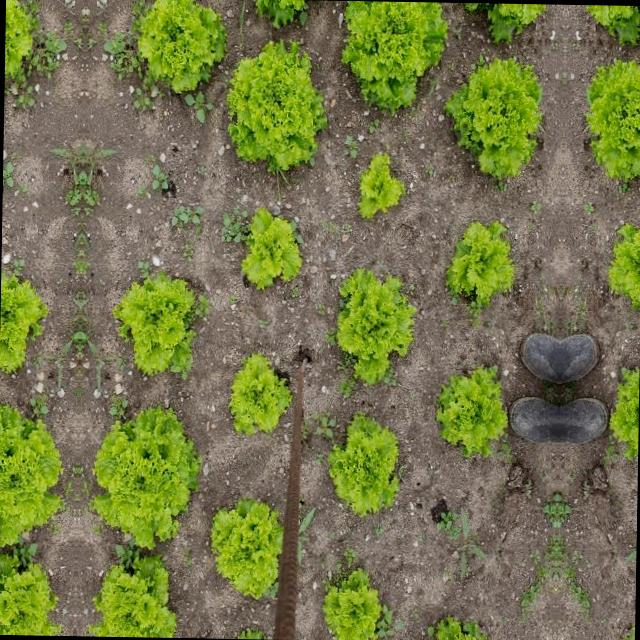healthy: (89, 404, 199, 554), (224, 33, 330, 174), (442, 54, 544, 186), (336, 0, 452, 116), (334, 268, 418, 387), (0, 402, 65, 550), (132, 0, 228, 100), (117, 264, 195, 376), (322, 411, 402, 517), (208, 496, 282, 601), (582, 56, 640, 187), (88, 548, 174, 636), (434, 358, 509, 454), (447, 217, 519, 305), (226, 348, 292, 438), (238, 205, 304, 293), (0, 546, 62, 634), (319, 564, 382, 640), (0, 262, 43, 373), (460, 2, 550, 50), (358, 147, 406, 220), (603, 219, 640, 307), (3, 0, 36, 97), (608, 362, 640, 456), (580, 4, 640, 51), (424, 607, 489, 640), (245, 0, 315, 28), (620, 610, 635, 640)
